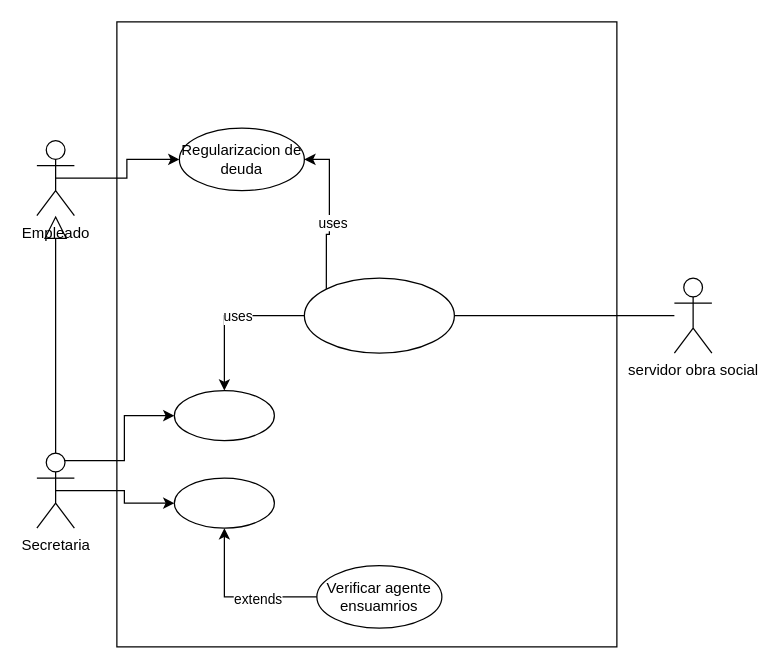
Some shapes in this 780 by 669 pixel diagram are drawn without their labels. Each missing label, with the centre of its shape:
"Alta de empleado" goes at pixel 223 502.
"asociar obra social" goes at pixel 223 415.
"Conectarse al servidor de obra social" goes at pixel 378 315.
